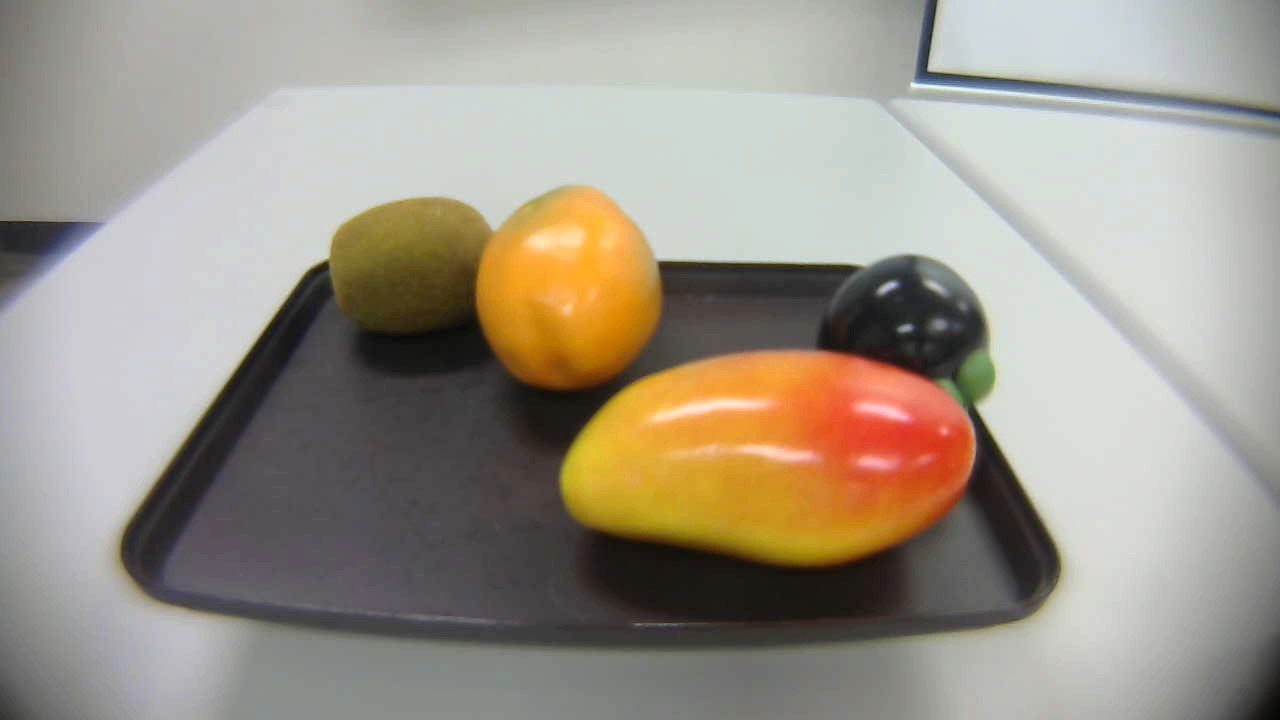kiwi fruit: (308, 176, 523, 358)
mangosteen: (812, 248, 1007, 415)
papya: (467, 176, 670, 396)
red mango: (538, 343, 987, 569)
